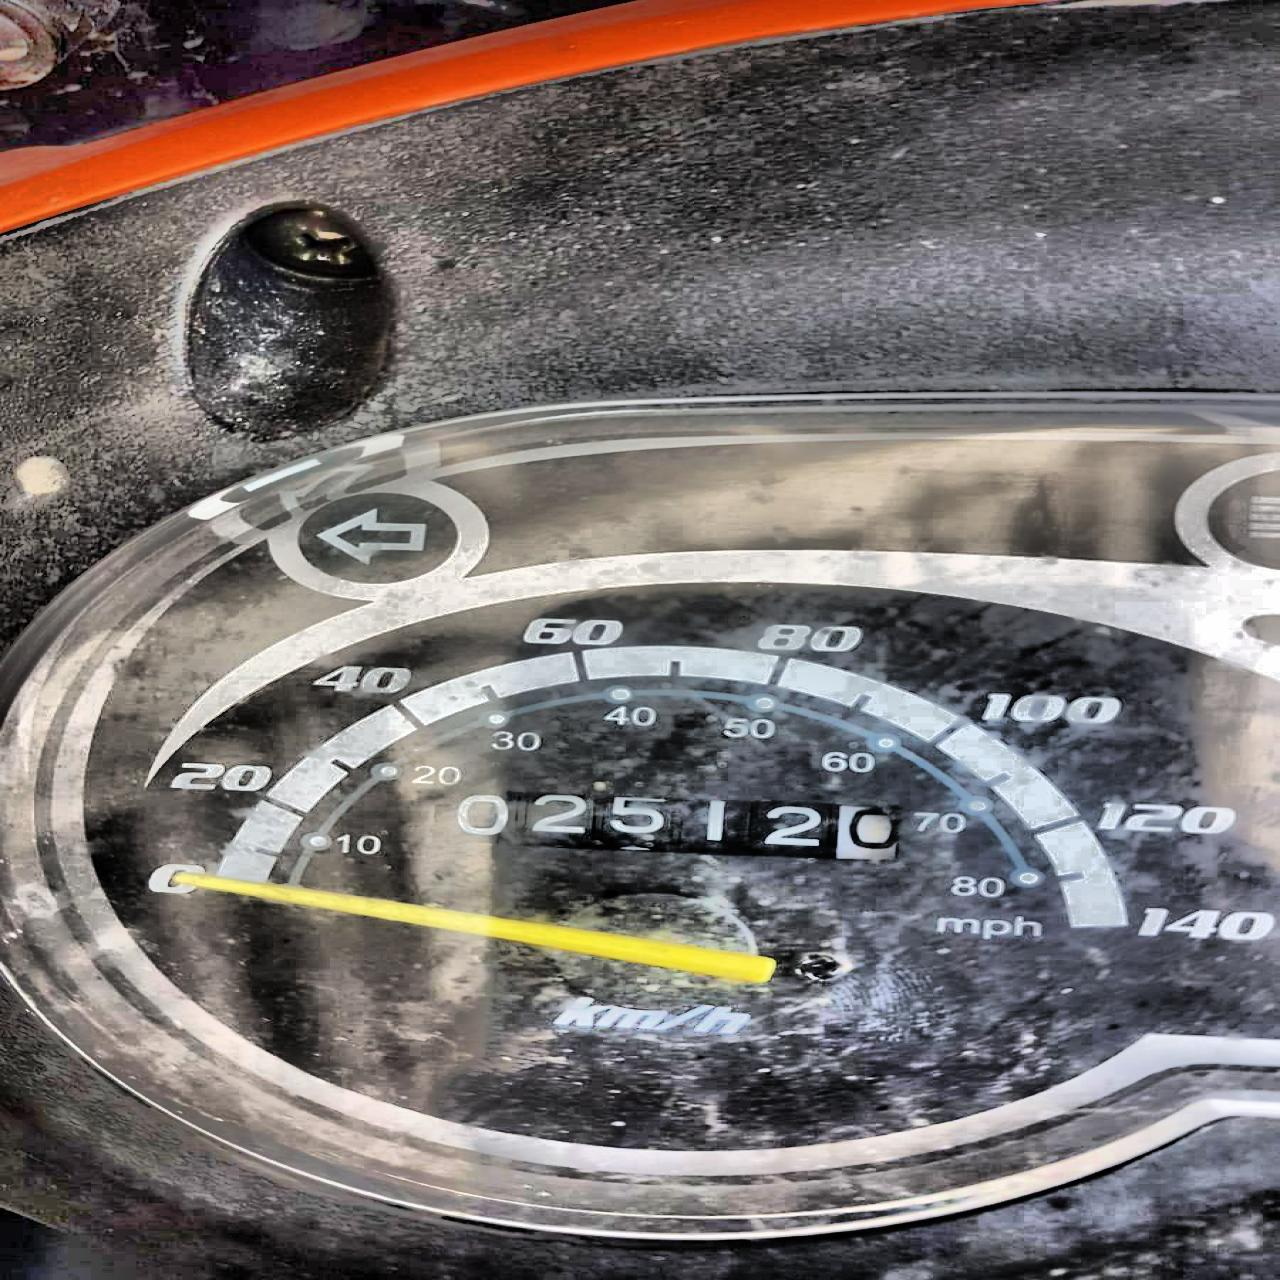0: (843, 805, 903, 851), (451, 794, 505, 836)
1: (697, 796, 731, 843)
2: (755, 801, 825, 850), (527, 790, 588, 836)
5: (606, 792, 668, 835)
odometer: (406, 784, 914, 873)
